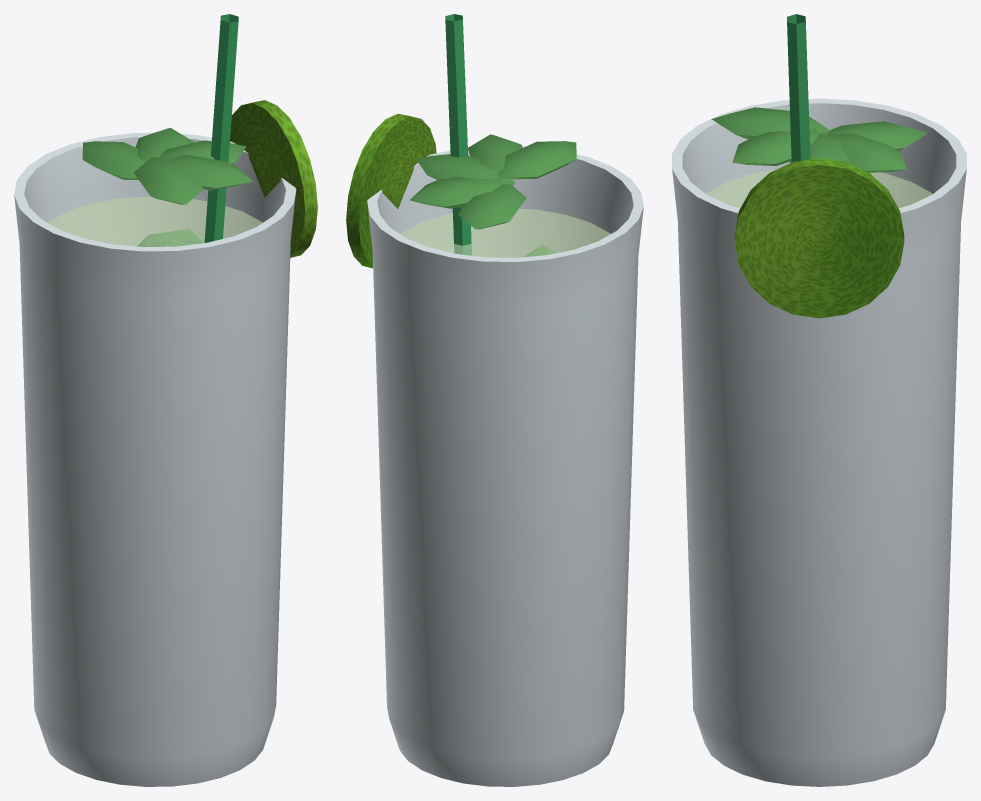
File: cocktail_mojito_mint_highball.glb
3 views of the same model, side by side, from view 1: azimuth 30°, elevation 25°; view 2: azimuth 150°, elevation 25°; view 3: azimuth 270°, elevation 25° (orthographic). The views are drawn at different scales.
Visible parts, largest first — view 1: cocktail_mojito_mint_highball; view 2: cocktail_mojito_mint_highball; view 3: cocktail_mojito_mint_highball.
Boxes of the visible parts, x1,y1,x2,y2 form: cocktail_mojito_mint_highball: (14, 14, 317, 786); cocktail_mojito_mint_highball: (346, 14, 643, 786); cocktail_mojito_mint_highball: (672, 14, 966, 786).
Bounding box in the file's own units: 0.077 × 0.2152 × 0.0764.
Materials: 6 (2 with a texture image).
